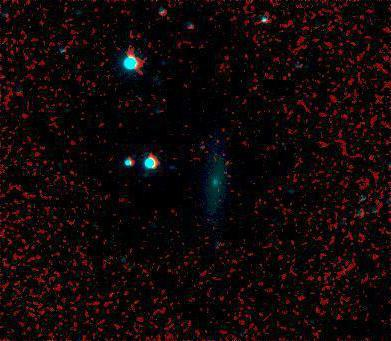star: (153, 86, 183, 116)
